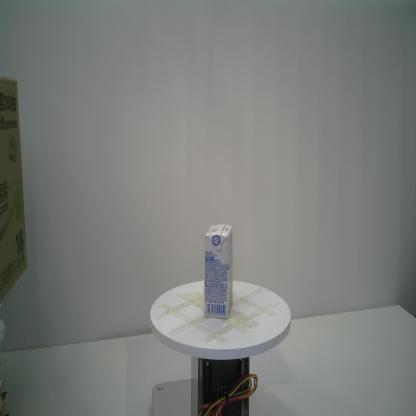Milk: (205, 224, 233, 319)
